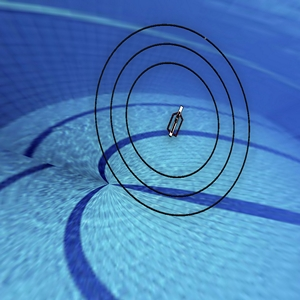circle: (90, 15, 257, 227)
submarine: (159, 101, 191, 145)
